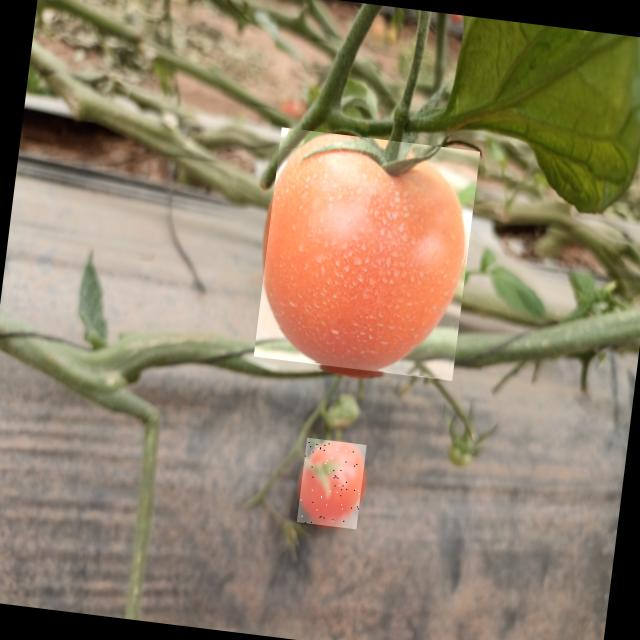Ripe Tomato: (252, 127, 480, 384), (296, 437, 366, 529)
